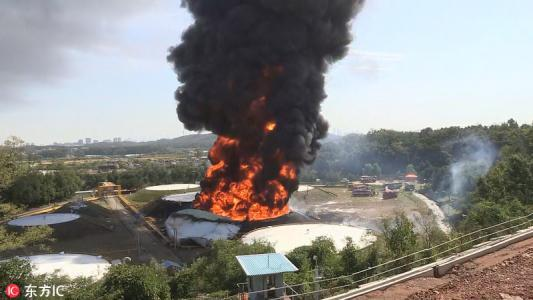fire: (208, 137, 294, 219)
smoke: (176, 5, 342, 125), (443, 140, 494, 195), (322, 134, 368, 171)
